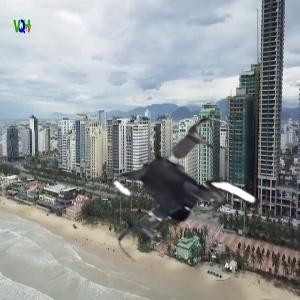drone: (99, 109, 281, 291)
